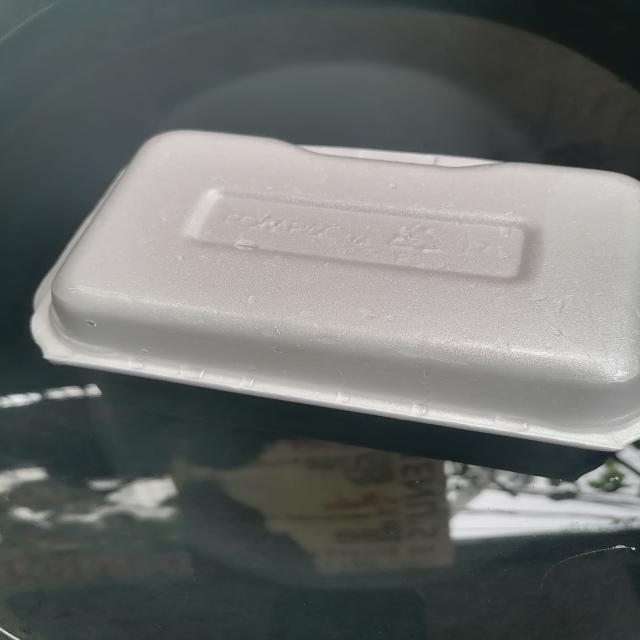Styrofoam Container: (31, 131, 640, 451)
